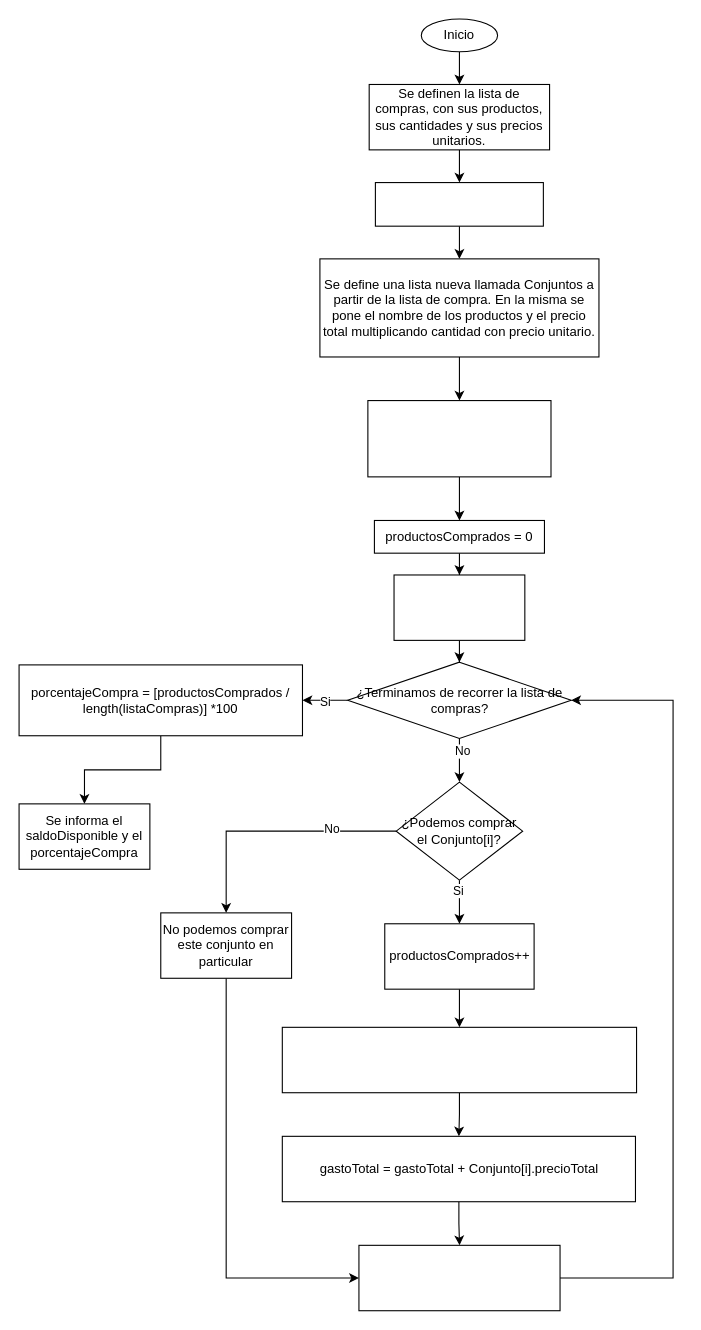
The diagram is 701 pixels wide and 1330 high, and some of its shapes have lost their labels. The centre of each missing label's shape, as x and y in pixels:
Entramos al supermercado.: pixel 459 607
Ordenamos la lista Conjuntos poniendo productos de mayor a menor precio TOTAL.: pixel 459 438
pasamos al siguiente Conjunto: i++: pixel 459 1277
saldoDisponible = saldoDisponible - Conjunto[i].precioTotal: pixel 459 1059
Se define un saldoDisponible.: pixel 458 203
